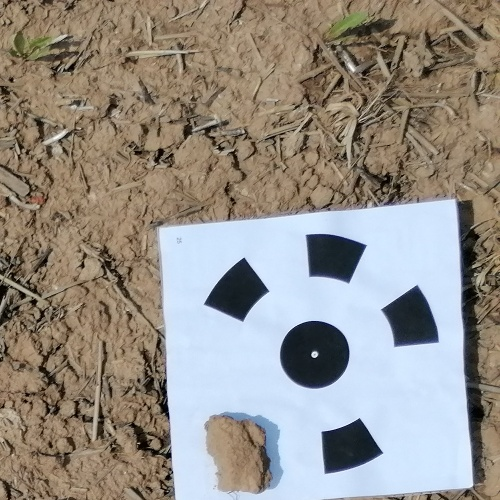beet: (5, 29, 51, 61), (324, 9, 368, 42)
